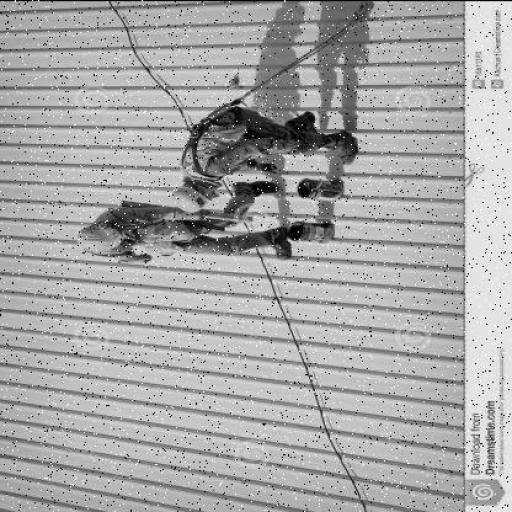person: (168, 96, 366, 214), (71, 184, 312, 279)
safety_shoe: (334, 128, 360, 164), (266, 226, 292, 258), (230, 180, 278, 192)
